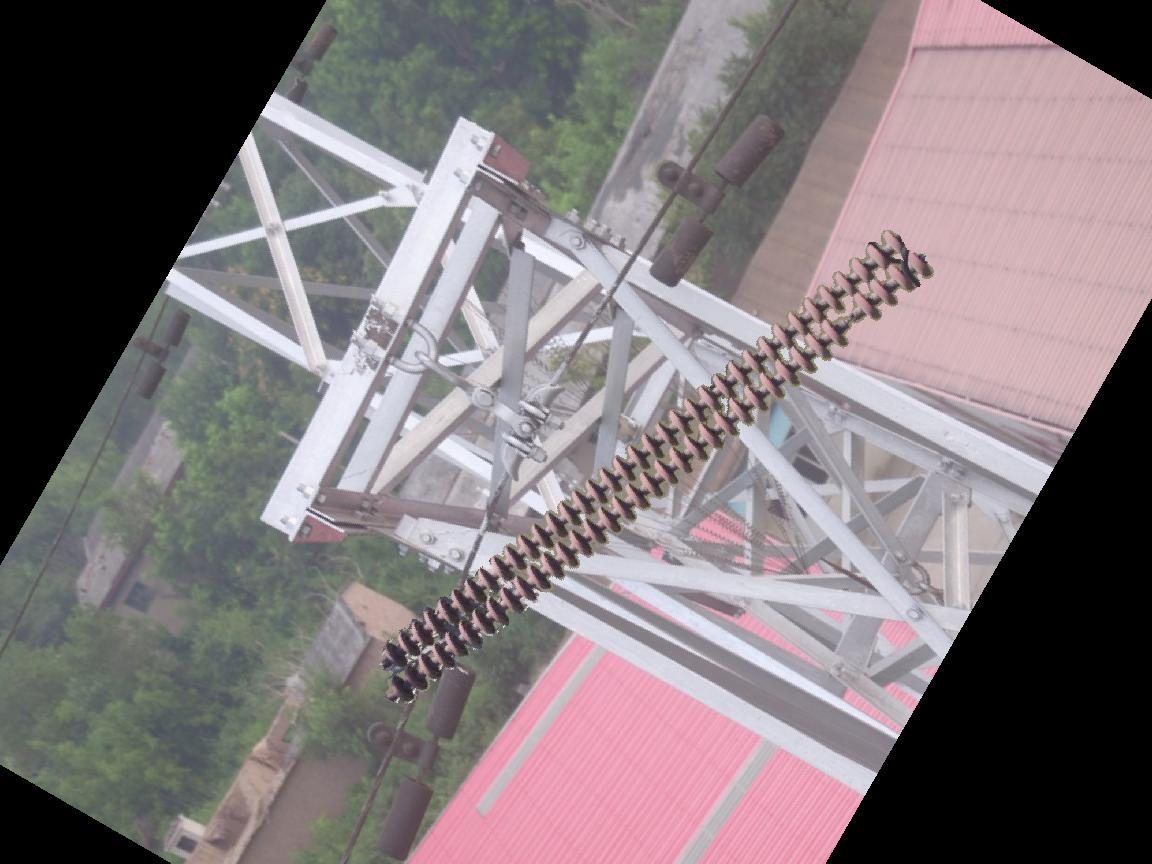insulator: (368, 214, 936, 707)
insulator_stringdrop: (819, 290, 883, 350)
